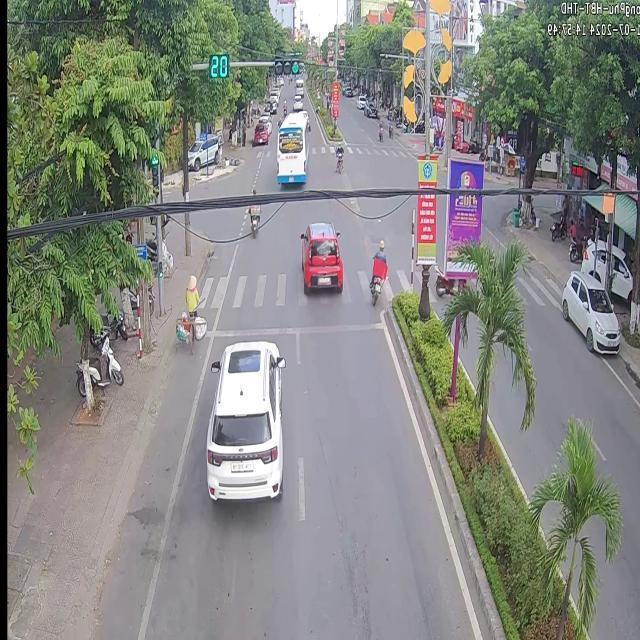car: (204, 340, 284, 498), (559, 269, 618, 350), (299, 220, 342, 292), (276, 109, 308, 182)
green_light: (208, 53, 228, 76), (274, 58, 299, 73), (151, 155, 158, 195)
motobike: (368, 238, 388, 305), (247, 202, 259, 236)
stop_line: (213, 320, 380, 337)
